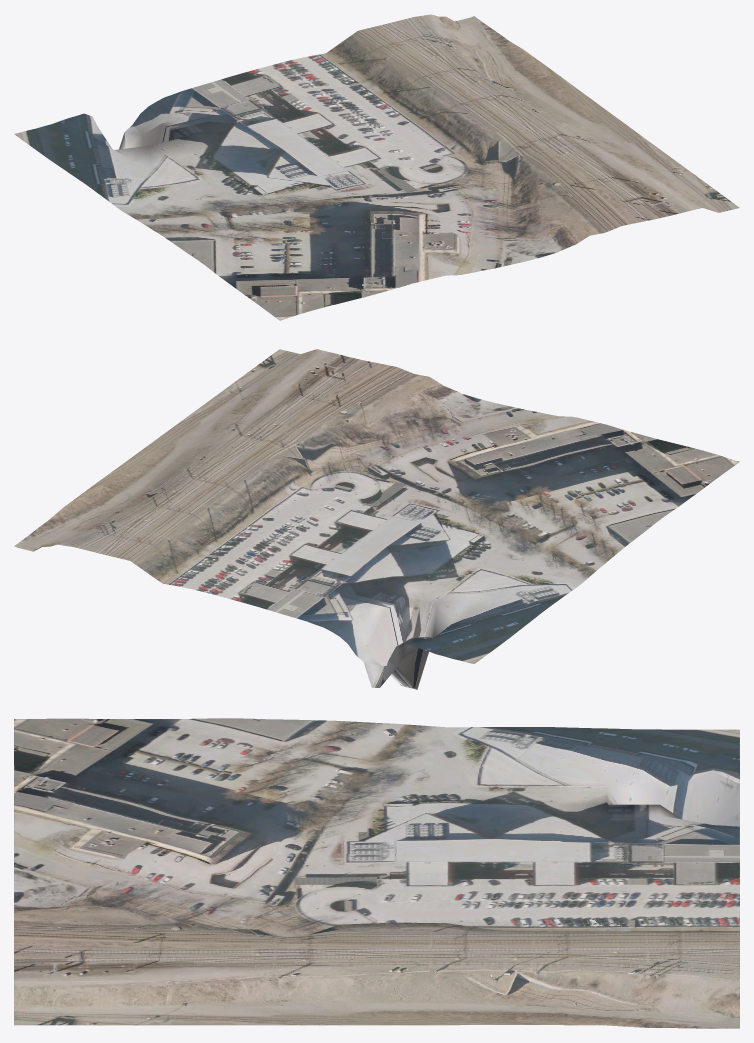
Rendered from CM_Terrain_24487797_6819794.fbx.
3 views of the same model, one above another, from view 1: azimuth 30°, elevation 25°; view 2: azimuth 150°, elevation 25°; view 3: azimuth 270°, elevation 25° (orthographic). The views are drawn at different scales.
Parts seen in each view (by area): view 1: CM_Terrain_24487797_6819794_LOD0; view 2: CM_Terrain_24487797_6819794_LOD0; view 3: CM_Terrain_24487797_6819794_LOD0.
Boxes of the visible parts, x1,y1,x2,y2 form: CM_Terrain_24487797_6819794_LOD0: (14, 14, 739, 320); CM_Terrain_24487797_6819794_LOD0: (14, 349, 739, 689); CM_Terrain_24487797_6819794_LOD0: (14, 718, 739, 1028).
Size of what is drawn, in the model's own units: 205 by 37.21 by 205.
